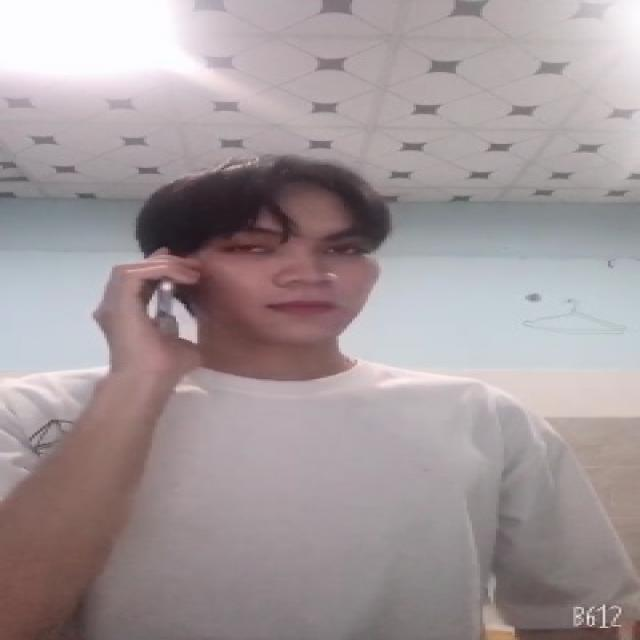Phone: (139, 261, 186, 349)
